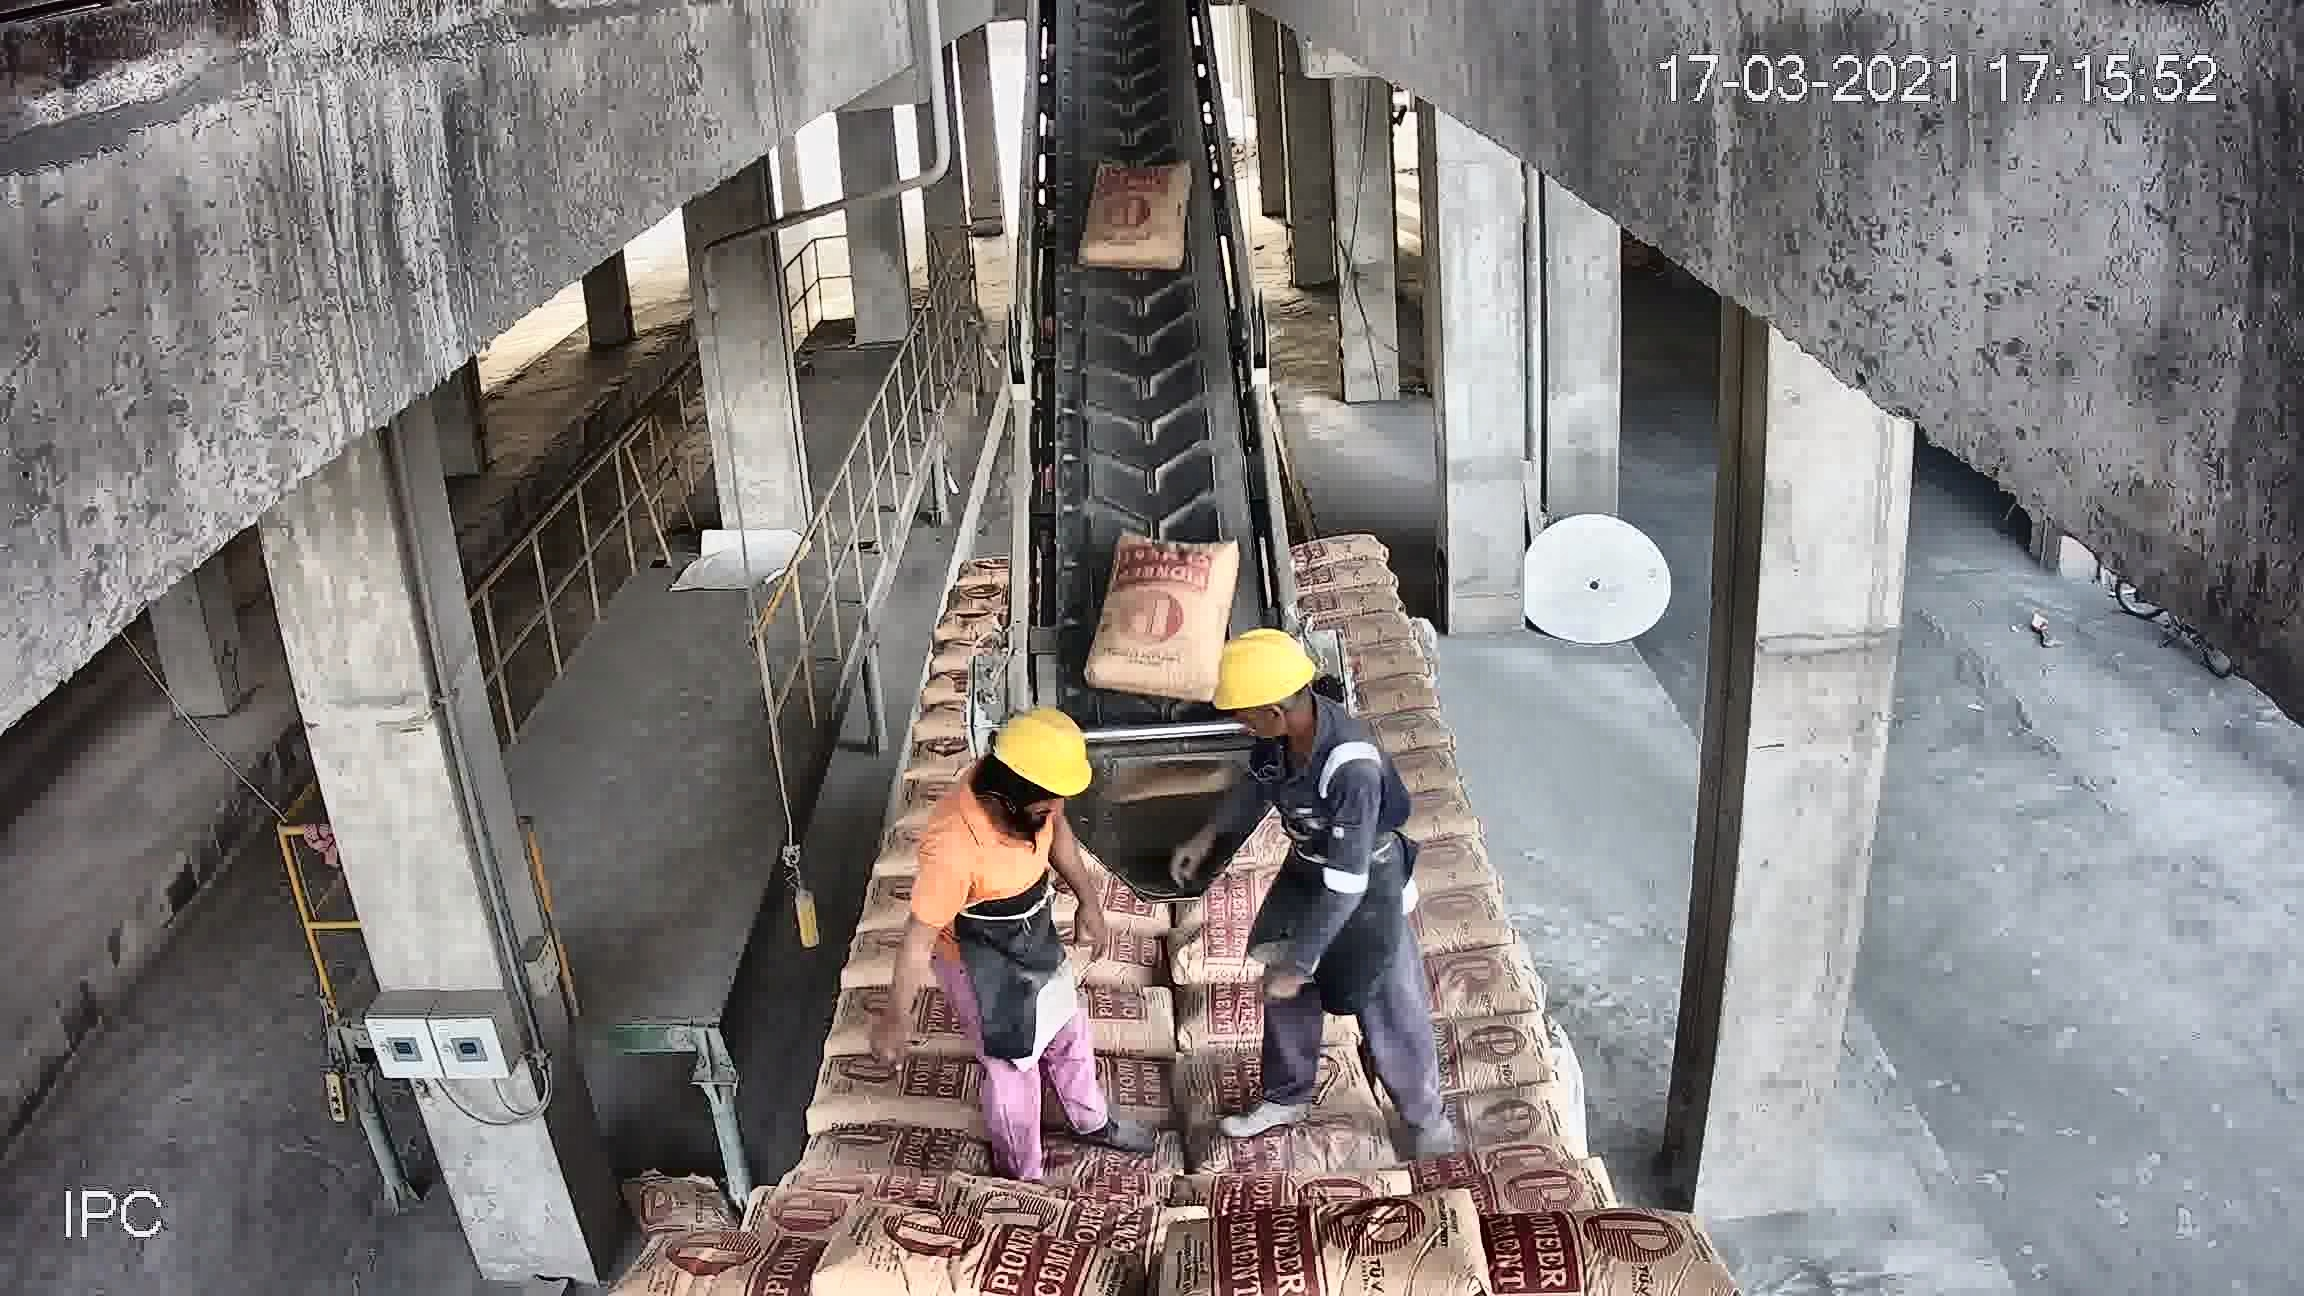bag: (1097, 525, 1237, 696), (1078, 152, 1188, 275)
bag_h: (1201, 1211, 1511, 1296), (1445, 1204, 1704, 1294), (815, 1225, 1101, 1294), (1179, 1100, 1394, 1184), (1176, 1044, 1378, 1128), (788, 1116, 986, 1199), (631, 1225, 850, 1296), (812, 1059, 994, 1139), (817, 987, 984, 1070), (1415, 1013, 1554, 1093), (1431, 1078, 1563, 1157), (1423, 942, 1532, 1013), (1408, 883, 1513, 954), (1299, 585, 1405, 627), (1302, 560, 1400, 600), (1301, 536, 1396, 562)
